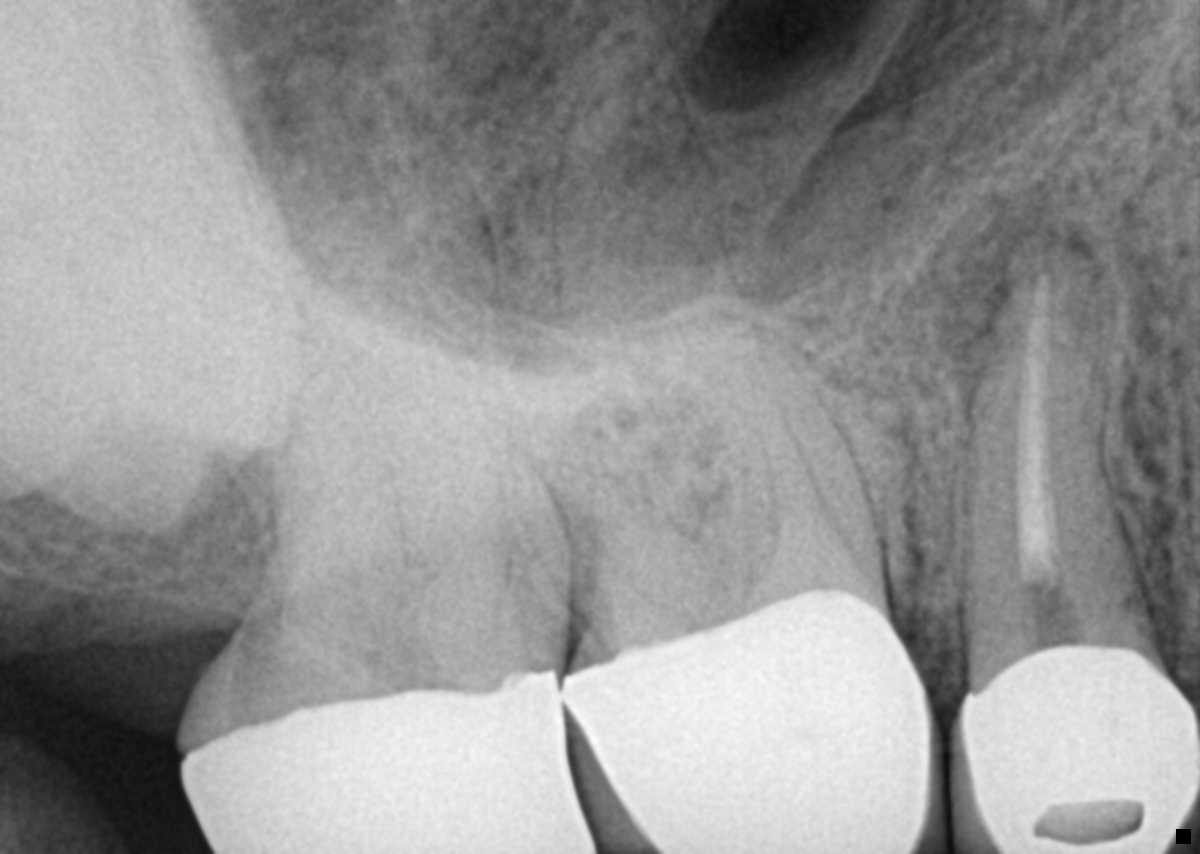Apical Lesion: (912, 182, 1043, 389)
Distal Root: (503, 387, 716, 641), (270, 364, 414, 620)
Main Root: (956, 232, 1146, 645)
Mesial Root: (634, 313, 886, 579), (383, 397, 572, 621)
Palatal Root: (550, 34, 841, 592), (265, 47, 535, 574)
Root Canal Filling: (1013, 271, 1065, 589)
